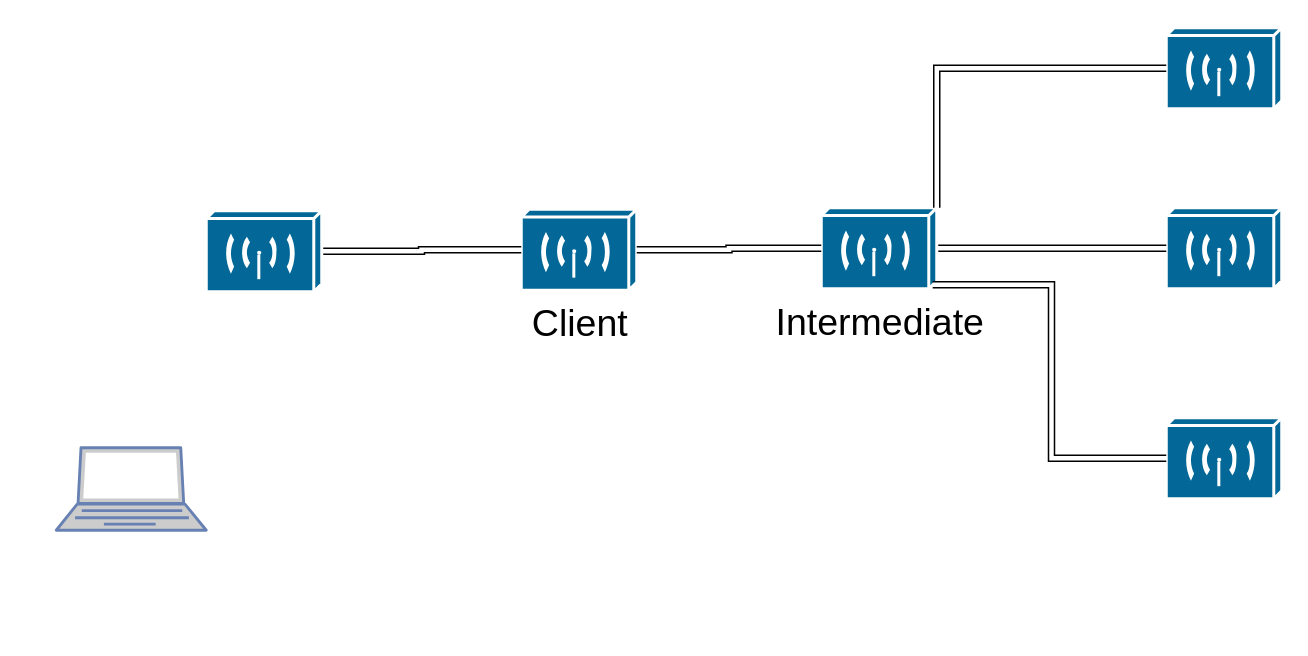
The diagram is 1308 pixels wide and 656 high, and some of its shapes have lost their labels. Each missing label, with the centre of its shape:
"Sink" belongs at point (263, 250).
"Visualization" belongs at point (130, 488).
